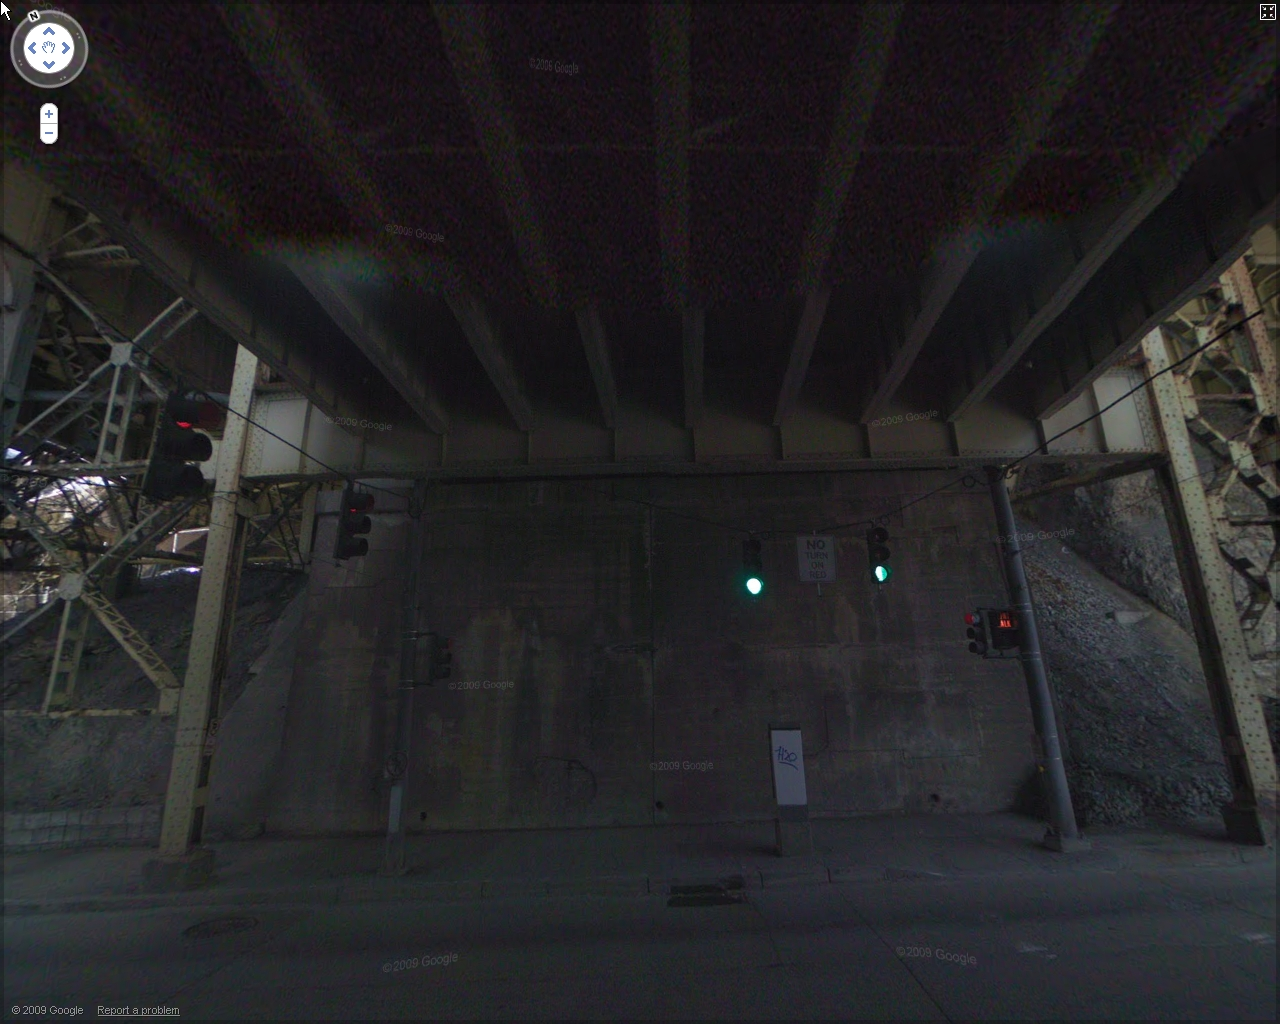traffic_light: (140, 390, 213, 504), (332, 486, 375, 562), (864, 526, 891, 583), (740, 539, 765, 596), (988, 606, 1020, 650), (963, 610, 988, 654)
